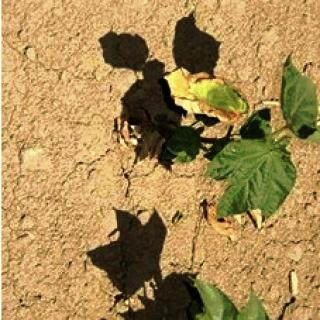wilt: (158, 65, 250, 129)
